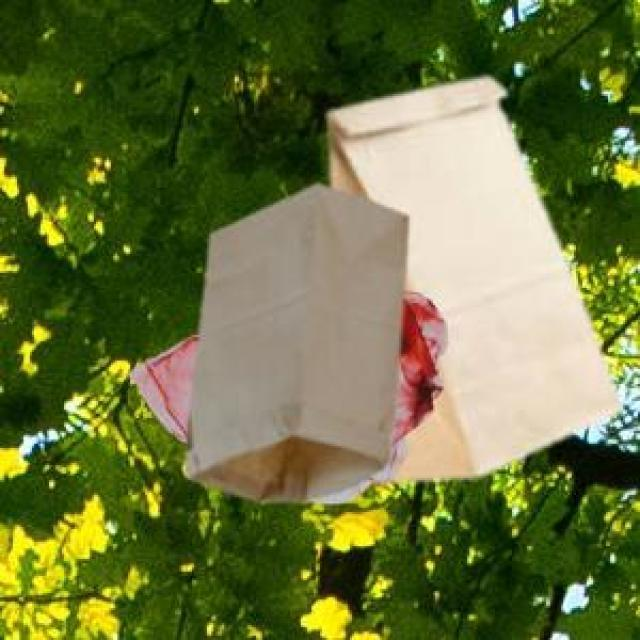paper: (324, 75, 614, 476), (181, 181, 403, 497)
